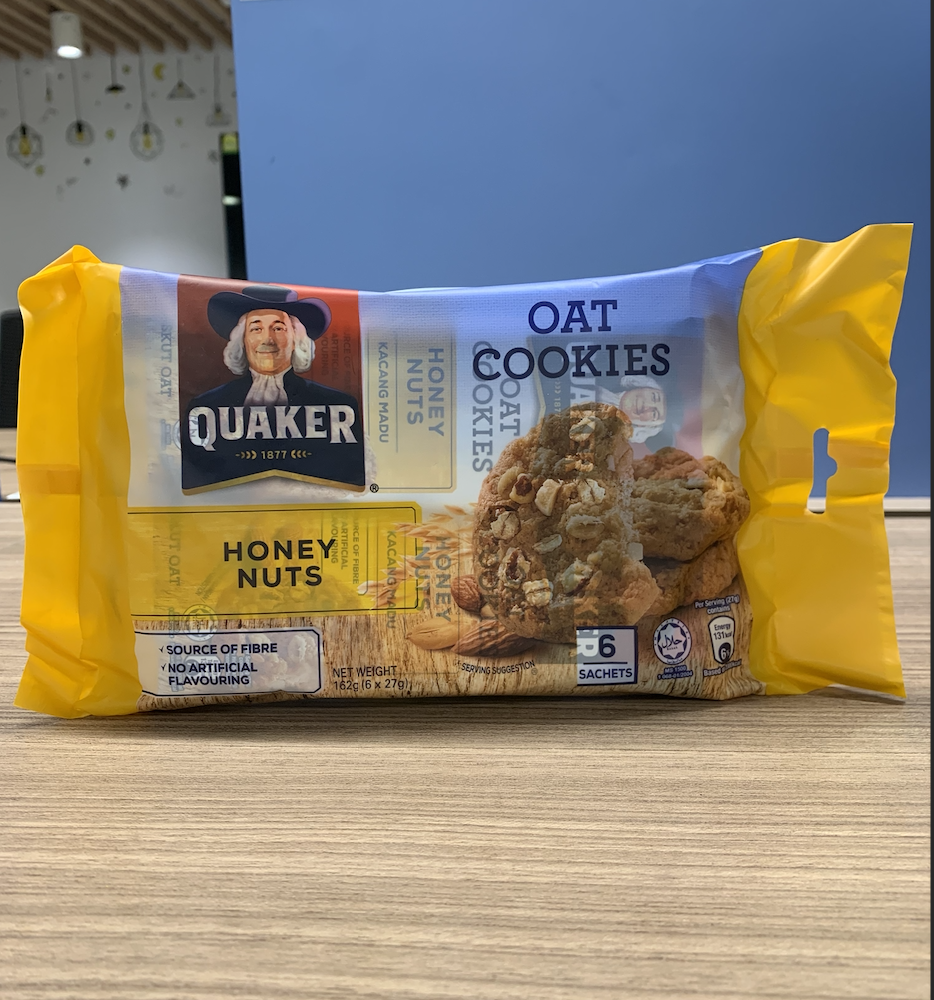cookies_100g-199g: (94, 291, 794, 685)
